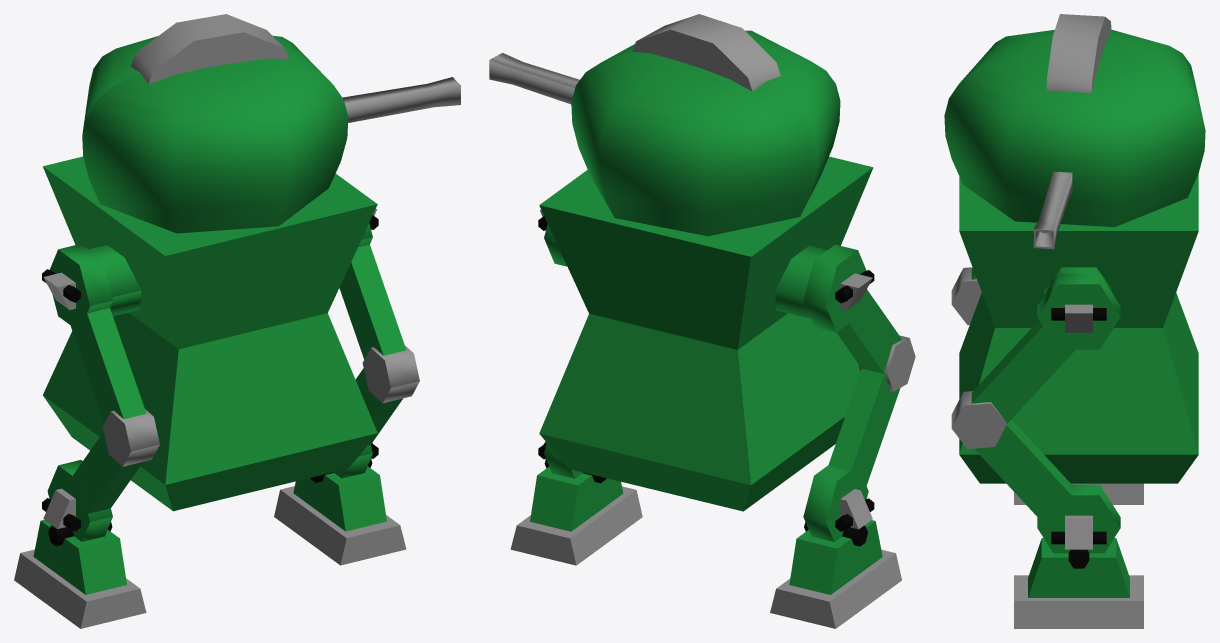
The picture shows the model from 3 angles, left to right: view 1: azimuth 30°, elevation 25°; view 2: azimuth 150°, elevation 25°; view 3: azimuth 270°, elevation 25°; orthographic projection. The views are drawn at different scales.
Parts seen in each view (by area): view 1: Round, Body, Body.001, Bottom, Round.001, RightFoot.006, LeftFoot.011, RightFoot.009, LeftFoot.007, RightFoot.008, LeftFoot.010, RightFoot (+9 smaller); view 2: Round, Body, Body.001, Bottom, Round.001, RightFoot.009, LeftFoot.011, LeftFoot, RightFoot.008, LeftFoot.010, RightFoot, RightFoot.001 (+6 smaller); view 3: Round, Body, Body.001, Bottom, LeftFoot.011, LeftFoot.007, LeftFoot.010, LeftFoot.009, LeftFoot.001, Round.001, LeftFoot.002, LeftFoot.008 (+8 smaller).
Boxes of the visible parts, left/top/right/bottom form: Round: left=82, top=35, right=348, bottom=233; Body: left=43, top=312, right=377, bottom=484; Body.001: left=43, top=156, right=377, bottom=349; Bottom: left=43, top=395, right=377, bottom=511; Round.001: left=130, top=14, right=289, bottom=84; RightFoot.006: left=71, top=308, right=146, bottom=422; LeftFoot.011: left=274, top=486, right=406, bottom=565; RightFoot.009: left=14, top=549, right=146, bottom=628; LeftFoot.007: left=339, top=244, right=406, bottom=359; RightFoot.008: left=33, top=520, right=126, bottom=594; LeftFoot.010: left=293, top=466, right=386, bottom=531; RightFoot: left=49, top=244, right=112, bottom=331; Round: left=571, top=30, right=840, bottom=236; Body: left=539, top=313, right=860, bottom=484; Body.001: left=539, top=156, right=873, bottom=349; Bottom: left=539, top=417, right=844, bottom=511; Round.001: left=632, top=14, right=780, bottom=91; RightFoot.009: left=770, top=549, right=901, bottom=628; LeftFoot.011: left=510, top=486, right=642, bottom=565; LeftFoot: left=828, top=369, right=900, bottom=485; RightFoot.008: left=789, top=520, right=882, bottom=594; LeftFoot.010: left=530, top=467, right=623, bottom=531; RightFoot: left=803, top=244, right=866, bottom=332; RightFoot.001: left=803, top=465, right=868, bottom=541; Round: left=944, top=29, right=1205, bottom=226; Body: left=959, top=292, right=1198, bottom=454; Body.001: left=959, top=174, right=1198, bottom=327; Bottom: left=959, top=454, right=1198, bottom=483; LeftFoot.011: left=1014, top=575, right=1143, bottom=628; LeftFoot.007: left=971, top=320, right=1075, bottom=423; LeftFoot.010: left=1028, top=538, right=1129, bottom=597; LeftFoot.009: left=974, top=419, right=1071, bottom=520; LeftFoot.001: left=1037, top=273, right=1120, bottom=349; Round.001: left=1046, top=14, right=1111, bottom=92; LeftFoot.002: left=1037, top=484, right=1120, bottom=553; LeftFoot.008: left=951, top=391, right=1006, bottom=448.
Bounding box in the file's own units: 160 × 209 × 94.05.
